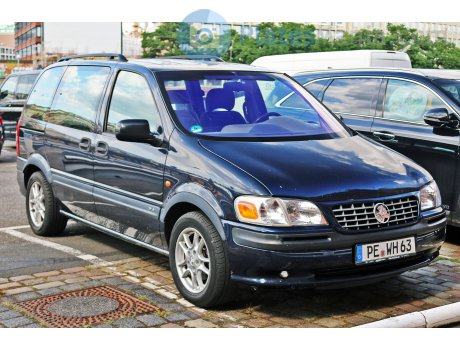License Plates: (360, 240, 416, 255)
